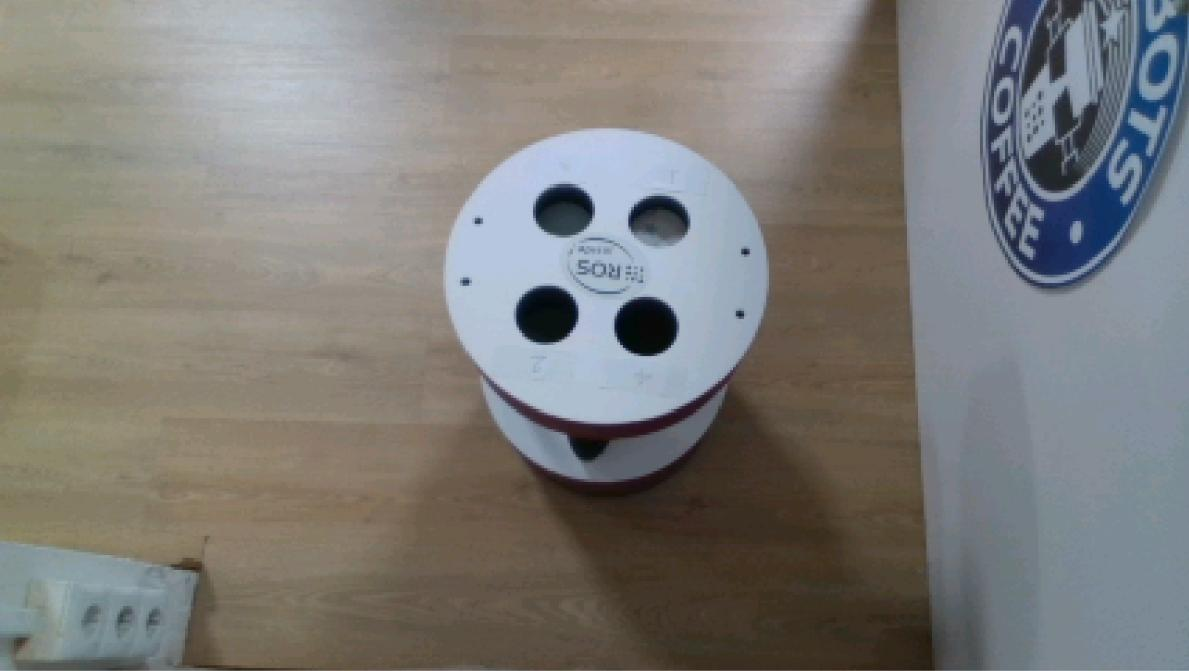hole: (513, 282, 581, 349), (613, 294, 679, 361), (529, 180, 599, 240), (627, 190, 692, 252)
